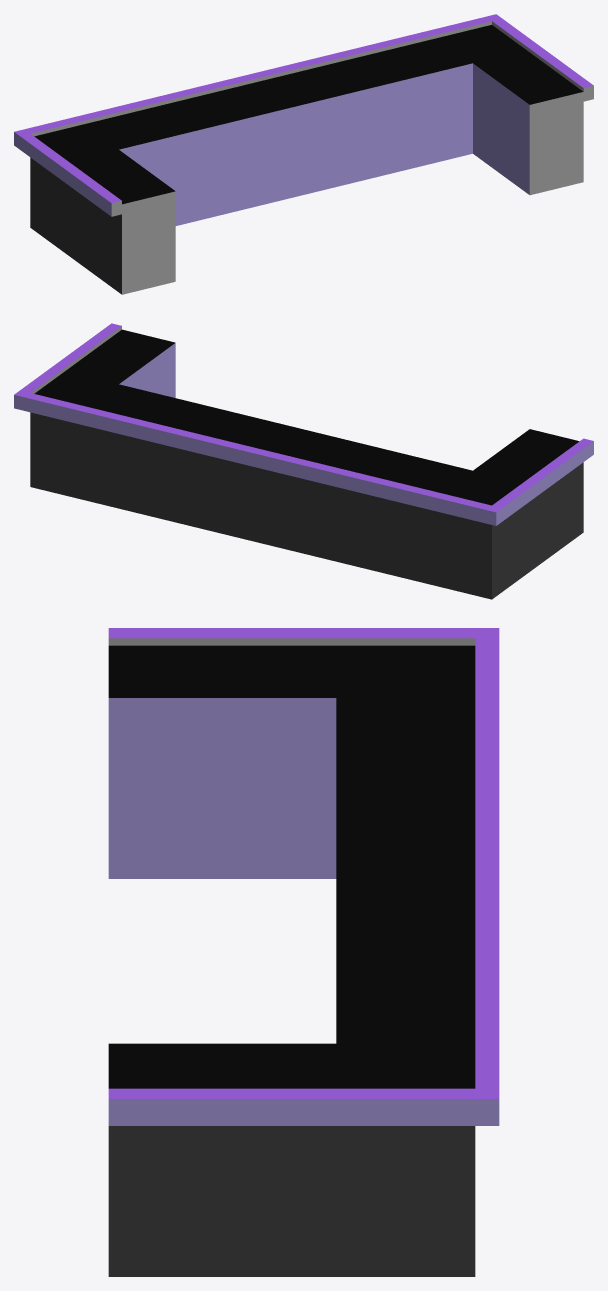
File: bar.fbx
3 renders of one model, top to bottom at view 1: azimuth 30°, elevation 25°; view 2: azimuth 150°, elevation 25°; view 3: azimuth 270°, elevation 25°, orthographic. The views are drawn at different scales.
Visible parts, largest first — view 1: pCube28; view 2: pCube28; view 3: pCube28.
Boxes of the visible parts, x1,y1,x2,y2 form: pCube28: (14, 14, 593, 294); pCube28: (14, 323, 593, 599); pCube28: (108, 628, 499, 1276).
Size of the model in its own units: 1347 by 251 by 472.
